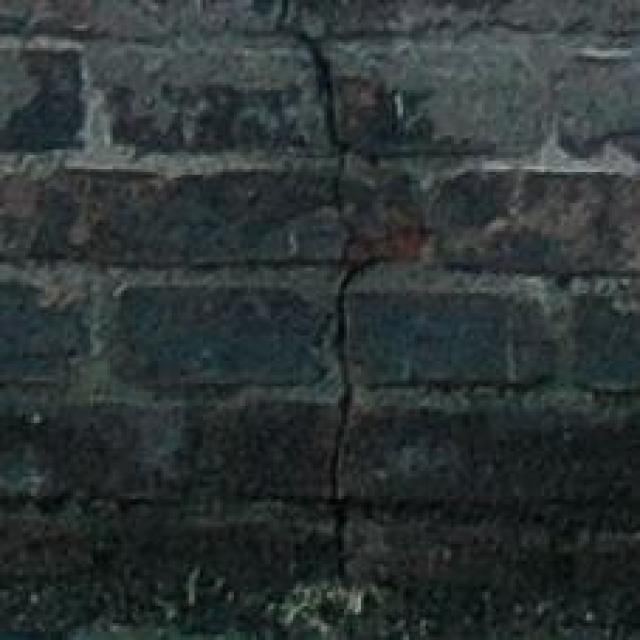Crack: (252, 13, 446, 636)
